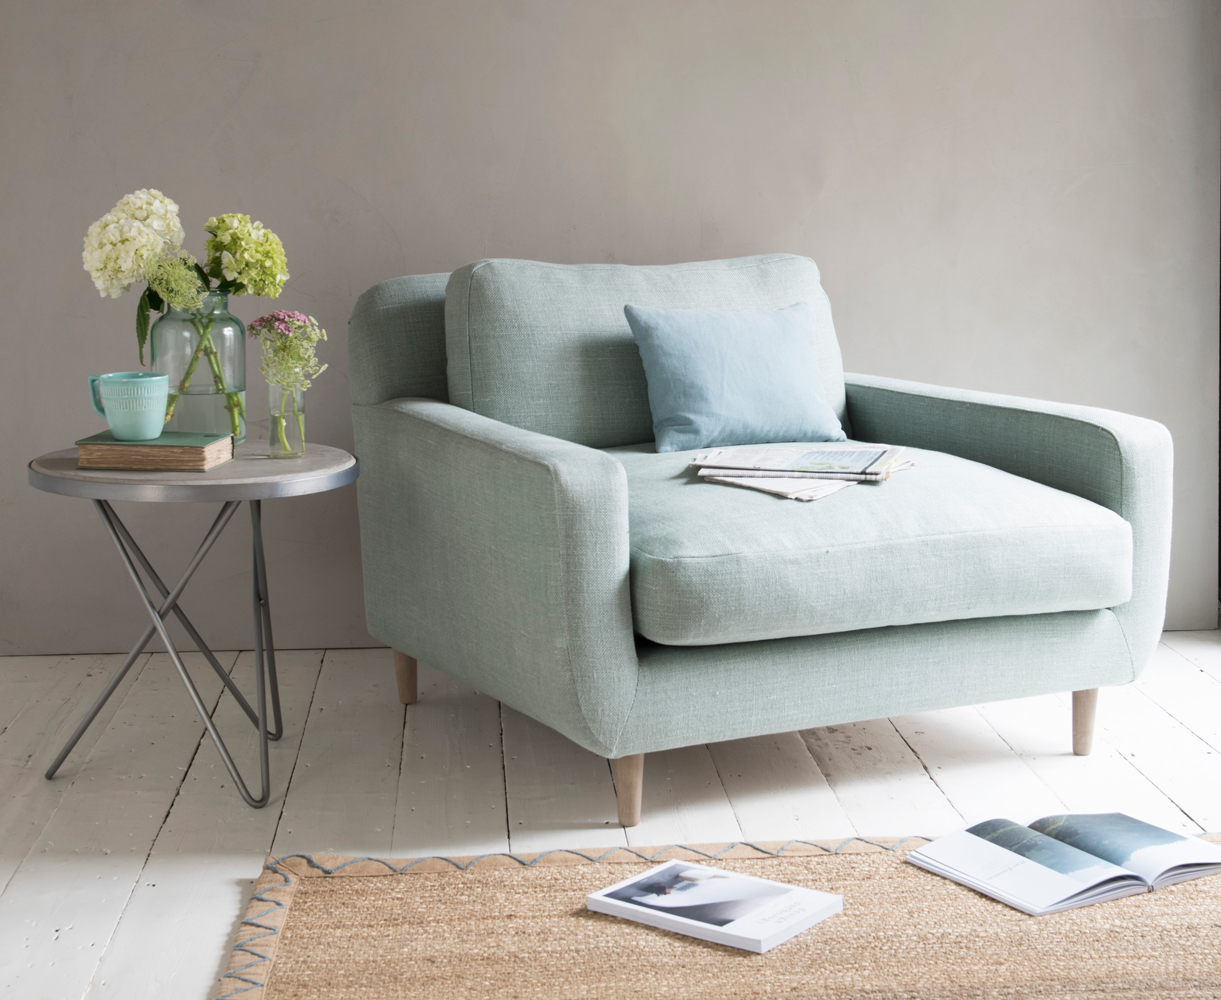chairs: (350, 255, 1176, 829)
